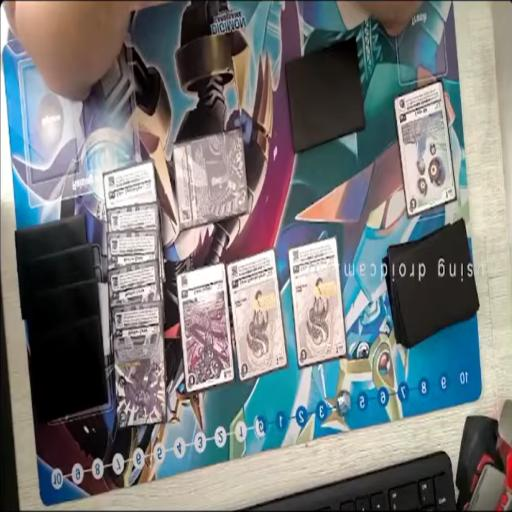card: (392, 90, 458, 212), (175, 124, 247, 233), (176, 266, 236, 391), (110, 303, 168, 429), (229, 252, 287, 374), (287, 242, 346, 358), (103, 158, 161, 208), (108, 259, 162, 306), (106, 230, 158, 268), (106, 202, 161, 232)
